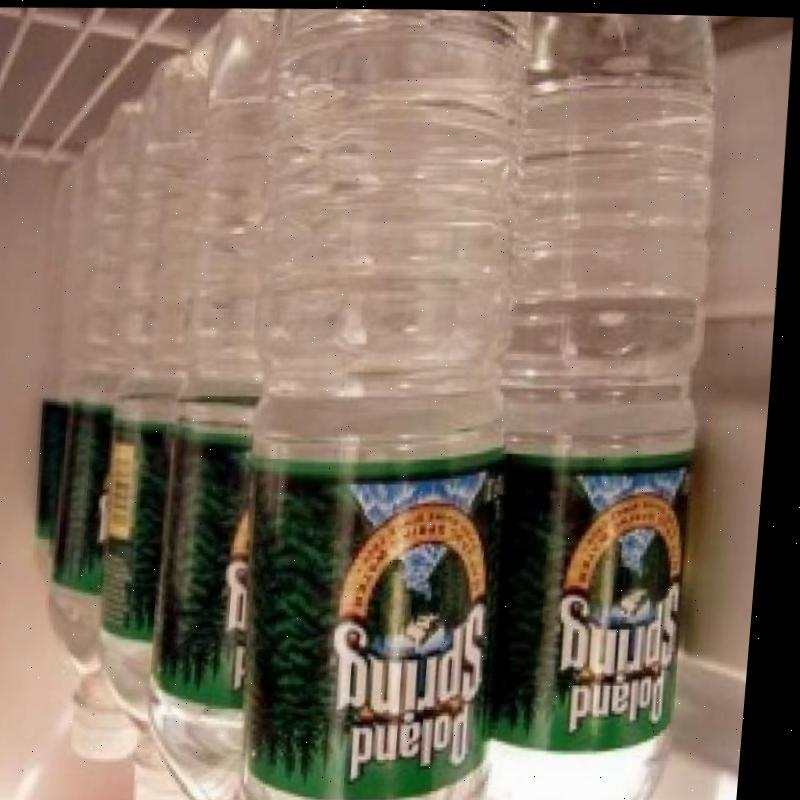botella: (226, 5, 547, 800), (482, 9, 738, 800), (159, 6, 309, 800), (40, 94, 188, 760), (94, 50, 217, 800), (26, 163, 89, 626)
